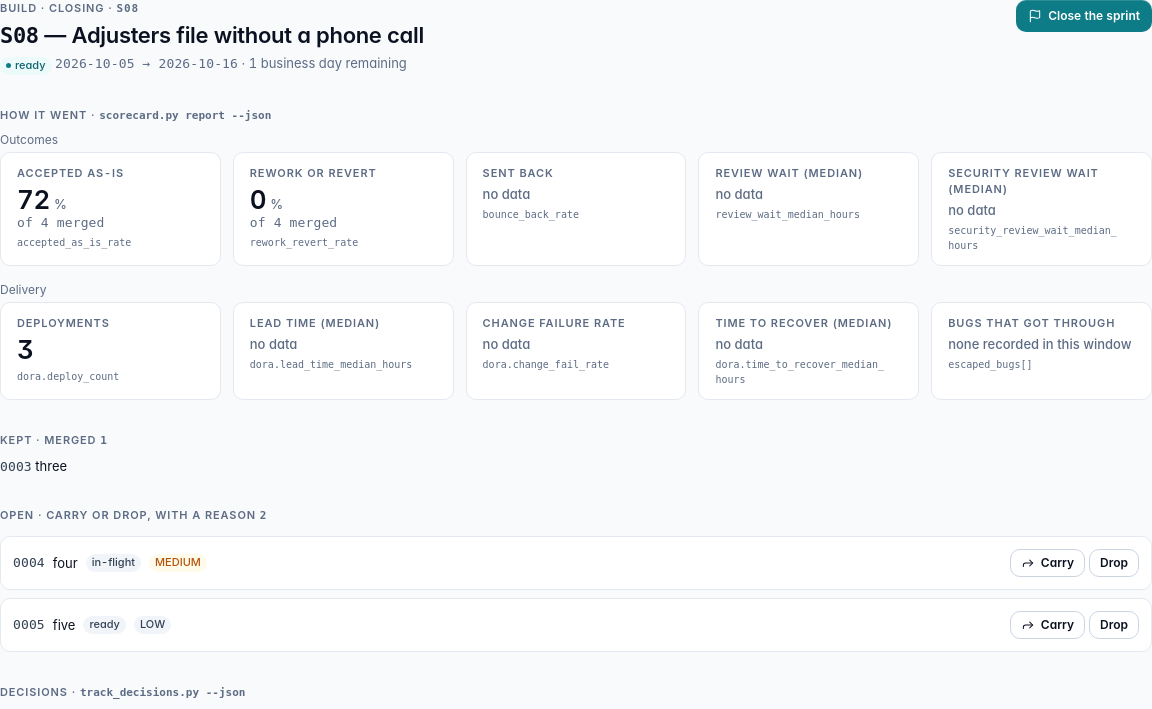
Scenario: SprintClose › Kept = merged; every open spec offers Carry / Drop with a reason; picking Carry shows the row's Carry-to picker over the non-closed later sprint
The image size is (1152, 709).
Expected: the element with test id "close-outcomes" is shown, [0,106,1151,400]
Expected: the field labelled "Carry to" is not shown
Click the button "Carry" in the row of "MEDIUM": (1047, 562) [1010,548,1085,576]
(page scrolled)
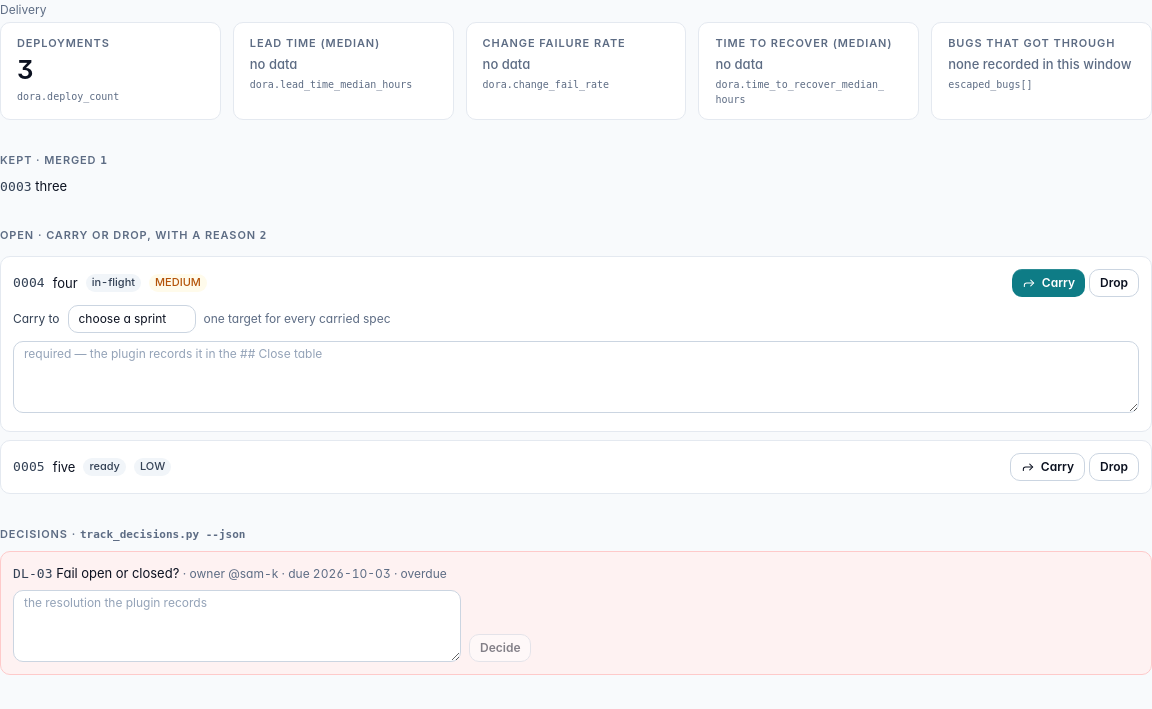
Expected: the text box named "Reason for carrying 0004" is shown, [13,340,1139,412]
Expected: the element with test id "close-open" shows "one target for every carried spec", [204,310,390,326]
